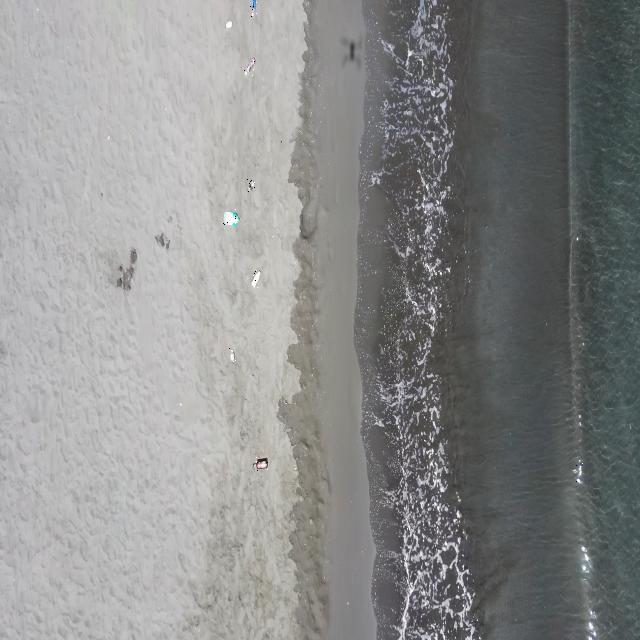Garbage: (116, 247, 136, 289), (223, 211, 239, 226), (243, 56, 255, 75), (155, 233, 168, 248), (253, 456, 267, 467), (251, 271, 260, 287), (246, 178, 255, 191), (249, 0, 256, 16), (228, 347, 235, 362), (224, 21, 232, 27)
